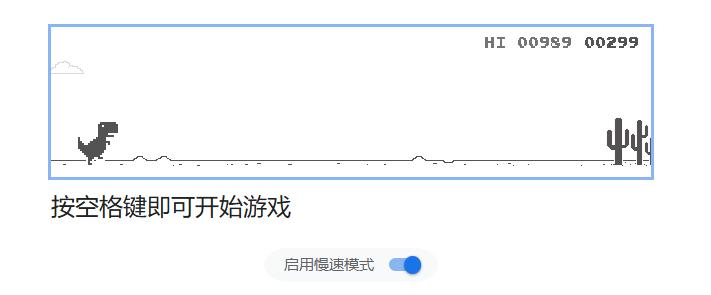cactus: (606, 114, 654, 168)
dino: (78, 119, 120, 166)
